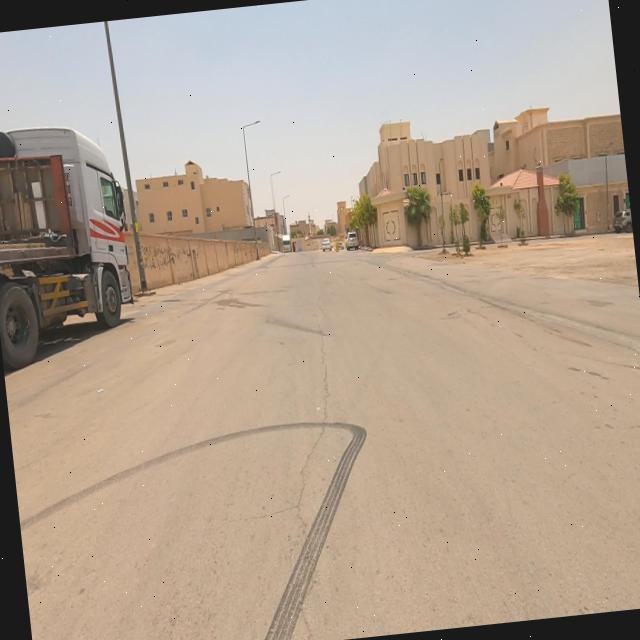Graffiti: (142, 240, 178, 271), (182, 248, 192, 265)
